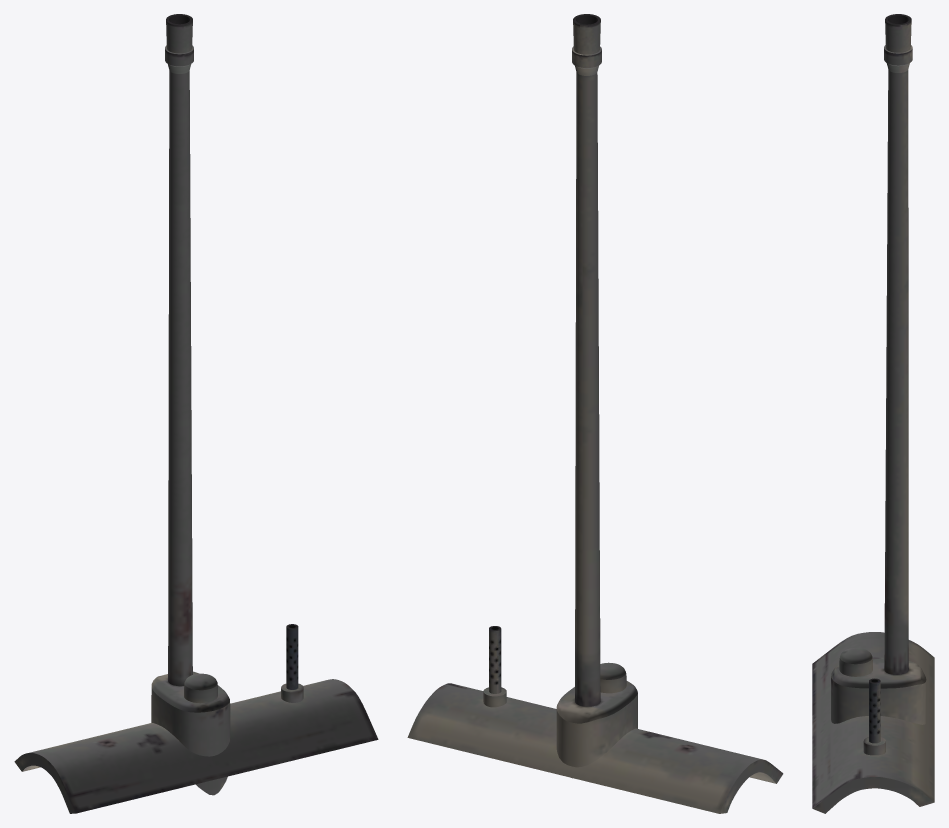
File: Gun_10.glb
The picture shows the model from 3 angles, left to right: view 1: azimuth 30°, elevation 25°; view 2: azimuth 150°, elevation 25°; view 3: azimuth 270°, elevation 25°; orthographic projection. The views are drawn at different scales.
Parts seen in each view (by area): view 1: set_0_group_0; view 2: set_0_group_0; view 3: set_0_group_0.
Part boxes in pixels (bbox=[...]): set_0_group_0: bbox=[14, 14, 378, 813]; set_0_group_0: bbox=[407, 14, 783, 813]; set_0_group_0: bbox=[812, 14, 934, 813].
Bounding box in the file's own units: 0.9283 × 2.2 × 0.3302.
1 material, 1 textured.
